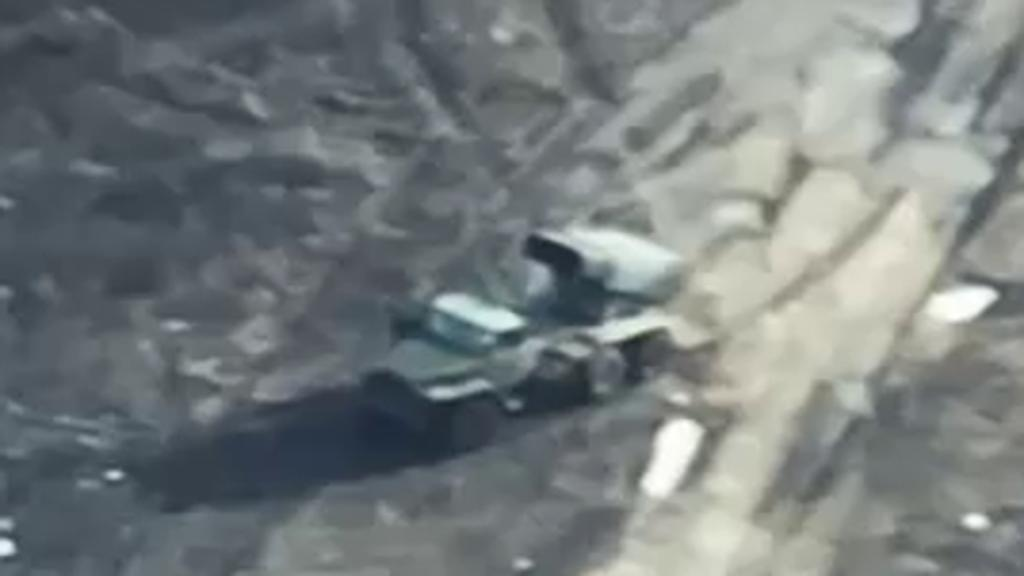MLRS: (356, 215, 680, 452)
